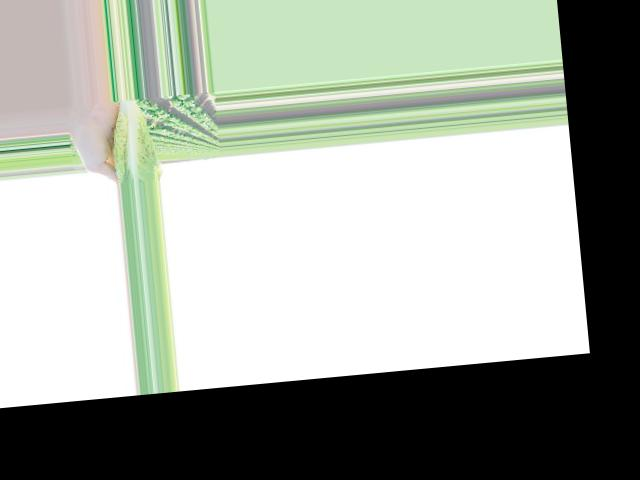lettuce: (109, 96, 160, 182)
